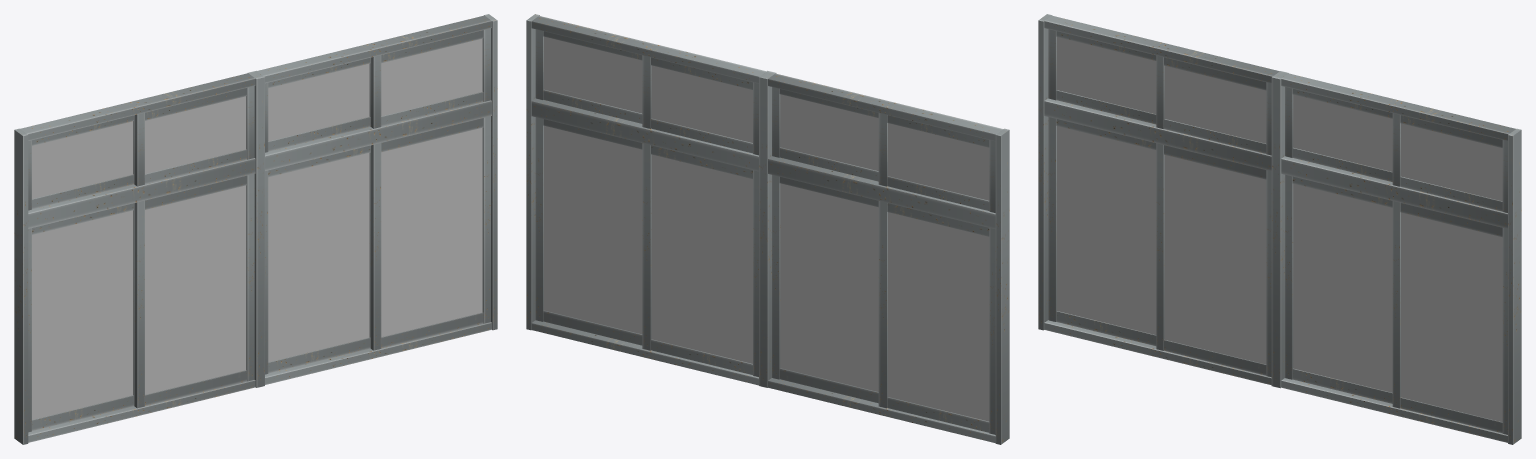
The model's file is bil_window_b1_2a.fbx.
3 renders of one model, left to right at view 1: azimuth 30°, elevation 25°; view 2: azimuth 150°, elevation 25°; view 3: azimuth 330°, elevation 25°, orthographic.
Visible parts, largest first — view 1: bil_window_b1_2a; view 2: bil_window_b1_2a; view 3: bil_window_b1_2a.
Boxes of the visible parts, x1,y1,x2,y2 form: bil_window_b1_2a: (14, 14, 497, 444); bil_window_b1_2a: (526, 14, 1009, 444); bil_window_b1_2a: (1038, 14, 1521, 444).
Size of the model in its own units: 365 by 227 by 11.68.
